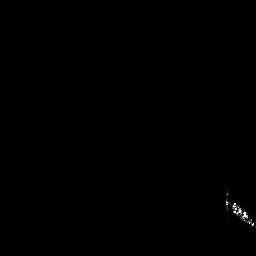ship: (223, 188, 256, 231)
